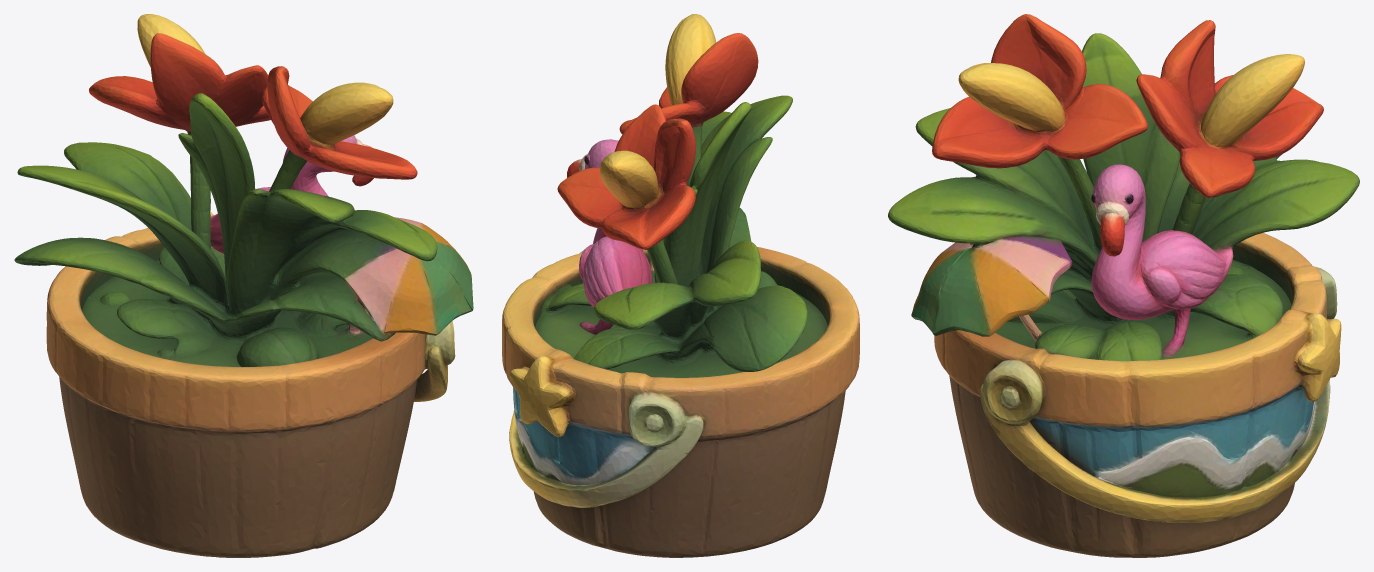
The model's file is flower_11.glb.
The picture shows the model from 3 angles, left to right: view 1: azimuth 30°, elevation 25°; view 2: azimuth 150°, elevation 25°; view 3: azimuth 270°, elevation 25°; orthographic projection. The views are drawn at different scales.
Visible parts, largest first — view 1: tripo_node_e8e20f42-a4b4-4e20-adf7-49370c0fdebd; view 2: tripo_node_e8e20f42-a4b4-4e20-adf7-49370c0fdebd; view 3: tripo_node_e8e20f42-a4b4-4e20-adf7-49370c0fdebd.
Boxes of the visible parts, x1=… form: tripo_node_e8e20f42-a4b4-4e20-adf7-49370c0fdebd: x1=14, y1=14, x2=473, y2=557; tripo_node_e8e20f42-a4b4-4e20-adf7-49370c0fdebd: x1=502, y1=14, x2=859, y2=557; tripo_node_e8e20f42-a4b4-4e20-adf7-49370c0fdebd: x1=888, y1=14, x2=1359, y2=557.
Bounding box in the file's own units: 0.769 × 0.9998 × 0.9005.
Materials: 1 (1 with a texture image).
